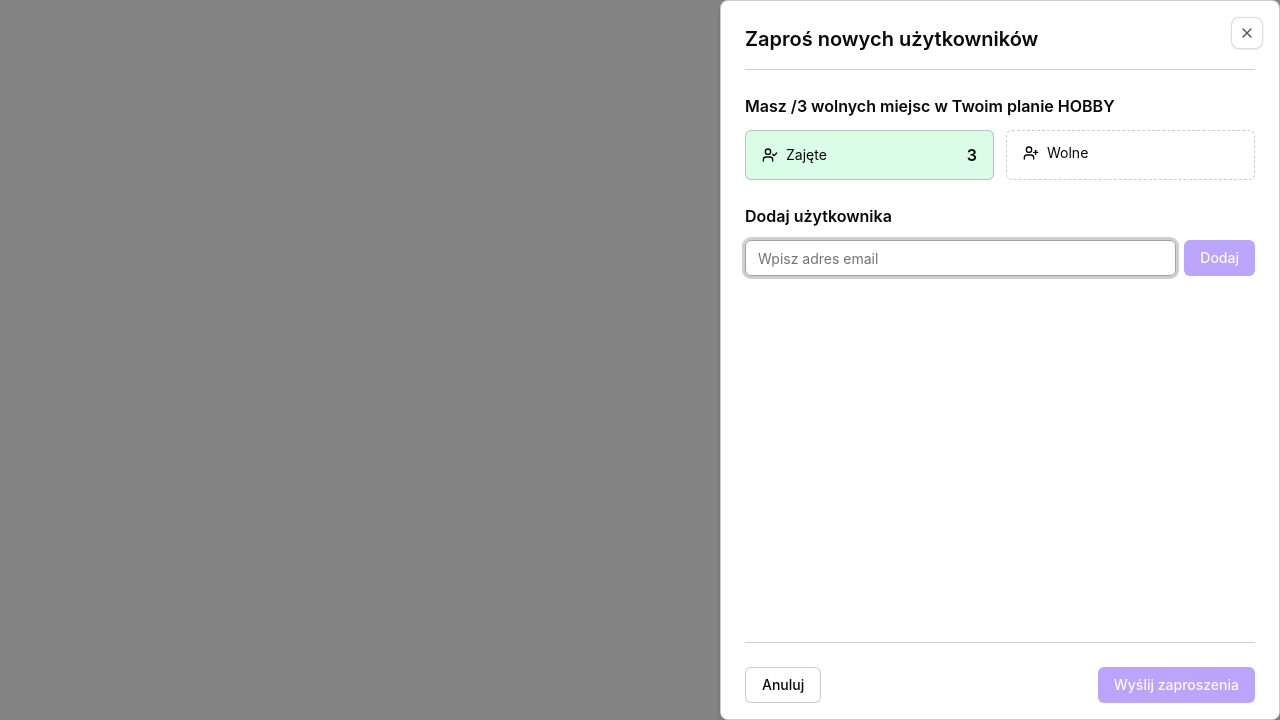
it: InviteUsersDialog › Payment Flow › should show payment button when unpaid invitations exist
# Add an invitation (will be unpaid)
In the field with placeholder "Wpisz adres email": [961, 258] box [745, 240, 1176, 276], type "test@example.com"
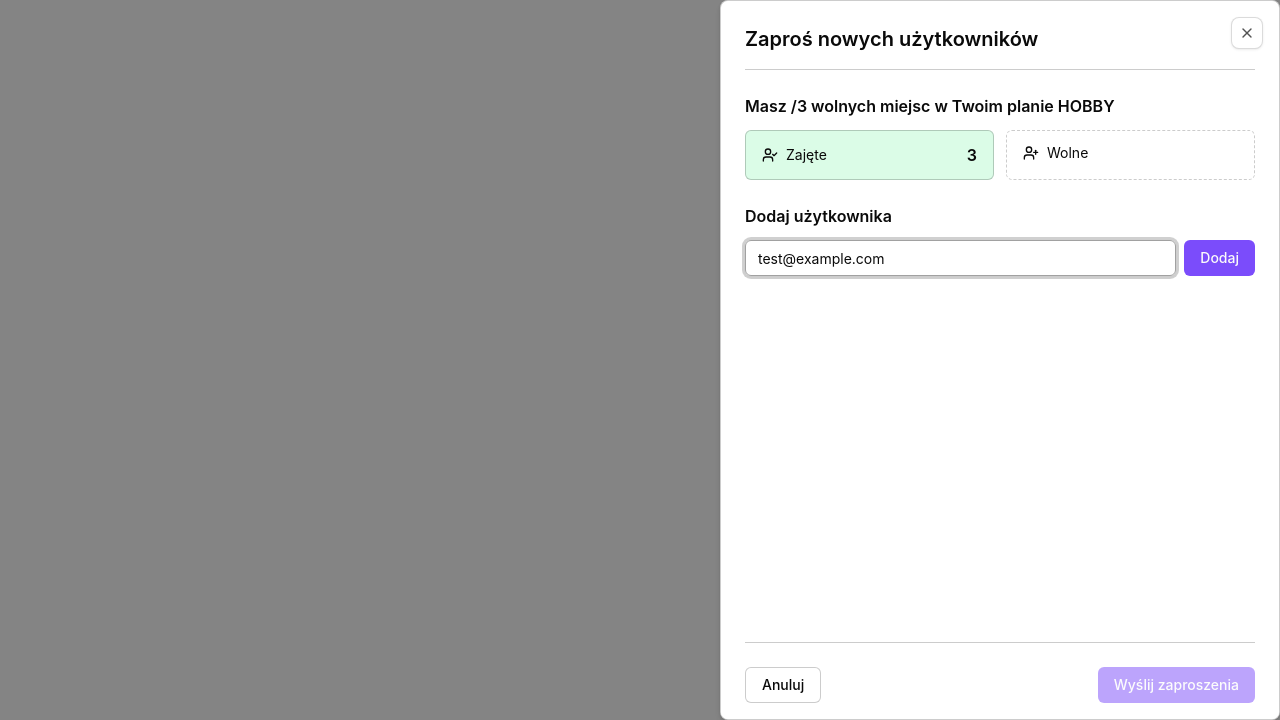
Click the button "Dodaj": [1220, 258] box [1184, 240, 1255, 276]
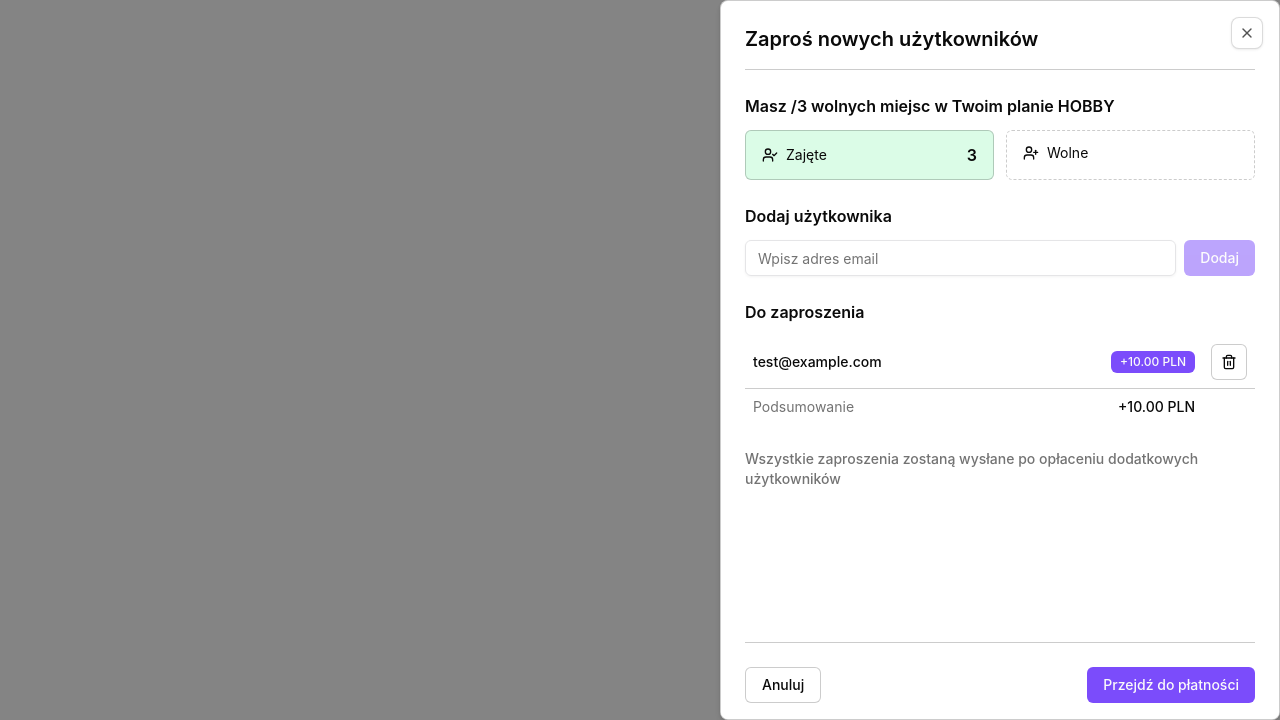
Expected: the button "Przejdź do płatności" is shown, [1087, 667, 1255, 703]
